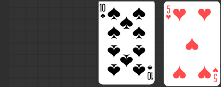10C: (100, 3, 107, 20)
4H: (166, 5, 173, 21)
